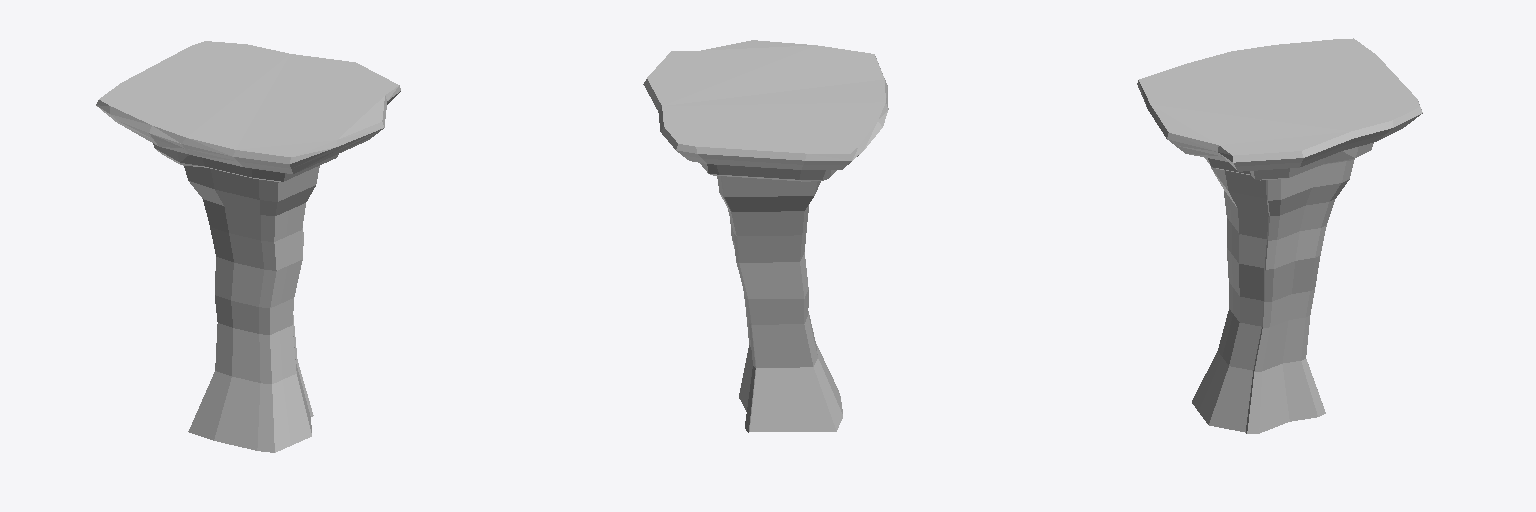
File: Level2AfterBridgePlat.obj
3 views of the same model, side by side, from view 1: azimuth 30°, elevation 25°; view 2: azimuth 150°, elevation 25°; view 3: azimuth 270°, elevation 25° (orthographic).
Parts seen in each view (by area): view 1: Level2AfterBridgePlat_Plane.028; view 2: Level2AfterBridgePlat_Plane.028; view 3: Level2AfterBridgePlat_Plane.028.
Boxes of the visible parts, x1=… form: Level2AfterBridgePlat_Plane.028: x1=96, y1=41, x2=400, y2=452; Level2AfterBridgePlat_Plane.028: x1=643, y1=40, x2=888, y2=432; Level2AfterBridgePlat_Plane.028: x1=1137, y1=38, x2=1422, y2=433.
Bounding box in the file's own units: 62.5 × 77.89 × 63.28.